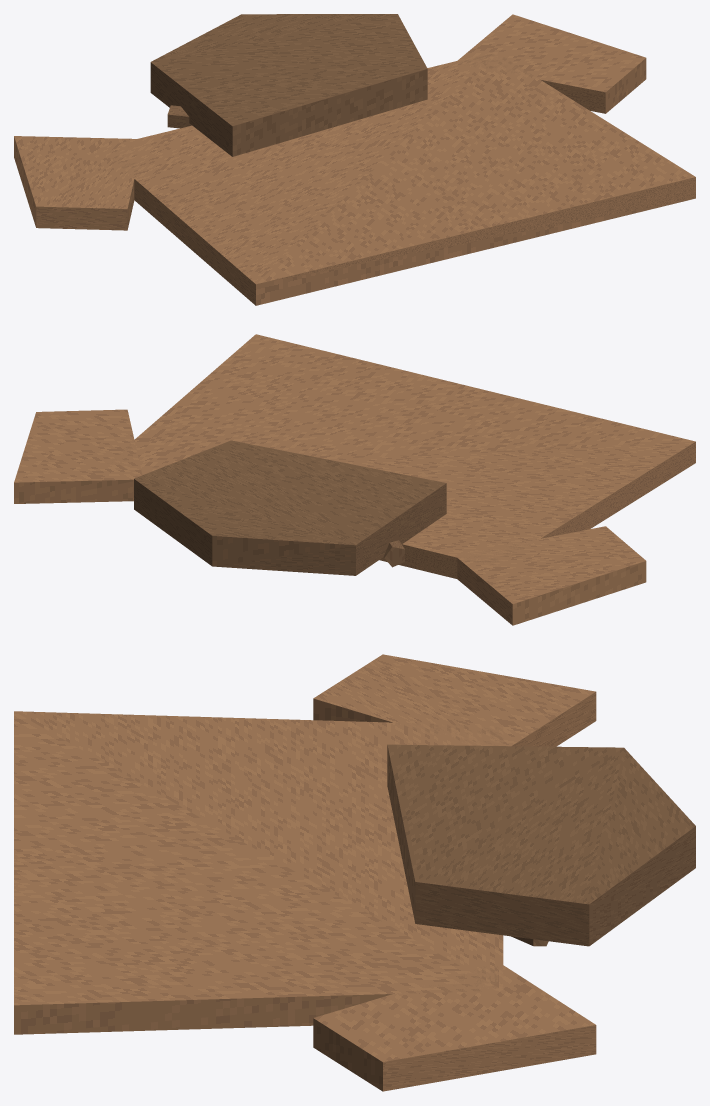
Rendered from hoodie_cropped.glb.
The picture shows the model from 3 angles, top to bottom: view 1: azimuth 30°, elevation 25°; view 2: azimuth 150°, elevation 25°; view 3: azimuth 270°, elevation 25°; orthographic projection. The views are drawn at different scales.
Visible parts, largest first — view 1: block_shirt torso, block_folded hood, block_sleeve or strap -1, block_sleeve or strap 1; view 2: block_shirt torso, block_folded hood, block_sleeve or strap -1, block_sleeve or strap 1; view 3: block_shirt torso, block_folded hood, block_sleeve or strap 1, block_sleeve or strap -1.
Boxes of the visible parts, <box> form: block_shirt torso: <box>99,52,695,305</box>; block_folded hood: <box>150,14,427,156</box>; block_sleeve or strap -1: <box>14,136,140,230</box>; block_sleeve or strap 1: <box>456,14,646,113</box>; block_shirt torso: <box>107,334,695,578</box>; block_folded hood: <box>134,440,446,575</box>; block_sleeve or strap -1: <box>455,526,646,625</box>; block_sleeve or strap 1: <box>14,409,142,503</box>; block_shirt torso: <box>14,711,503,1034</box>; block_folded hood: <box>387,744,695,946</box>; block_sleeve or strap 1: <box>313,962,596,1091</box>; block_sleeve or strap -1: <box>313,654,596,746</box>.
Bounding box in the file's own units: 0.416 × 0.034 × 0.294.
Materials: 1 (1 with a texture image).
